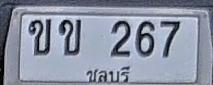2: (110, 20, 130, 56)
6: (136, 20, 154, 56)
7: (160, 20, 180, 57)
A02: (59, 18, 82, 56), (28, 18, 51, 55)
CBI: (83, 65, 133, 84)
